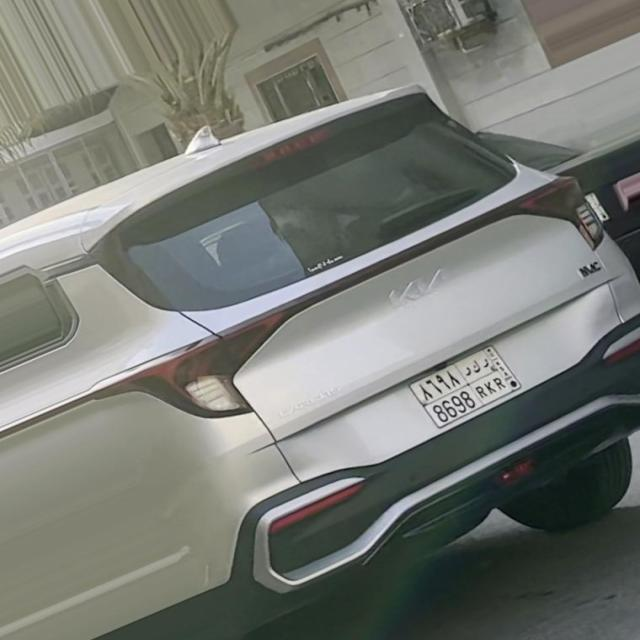Car-plate: (396, 337, 548, 437)
